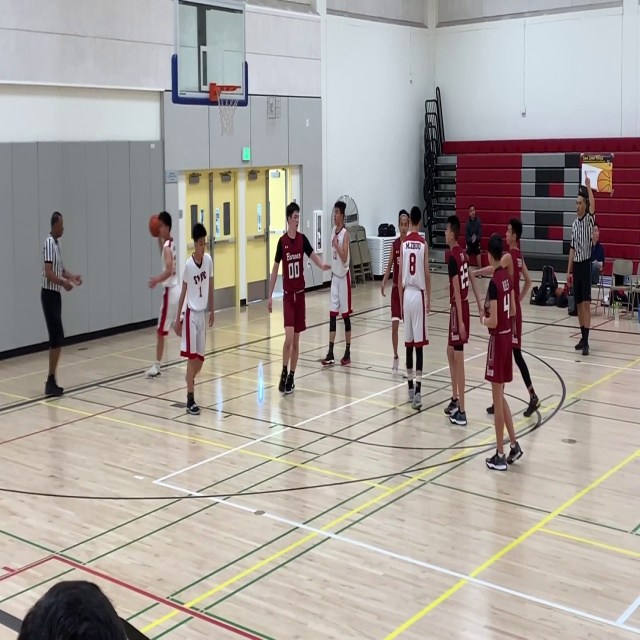Basketball: (148, 214, 162, 237)
